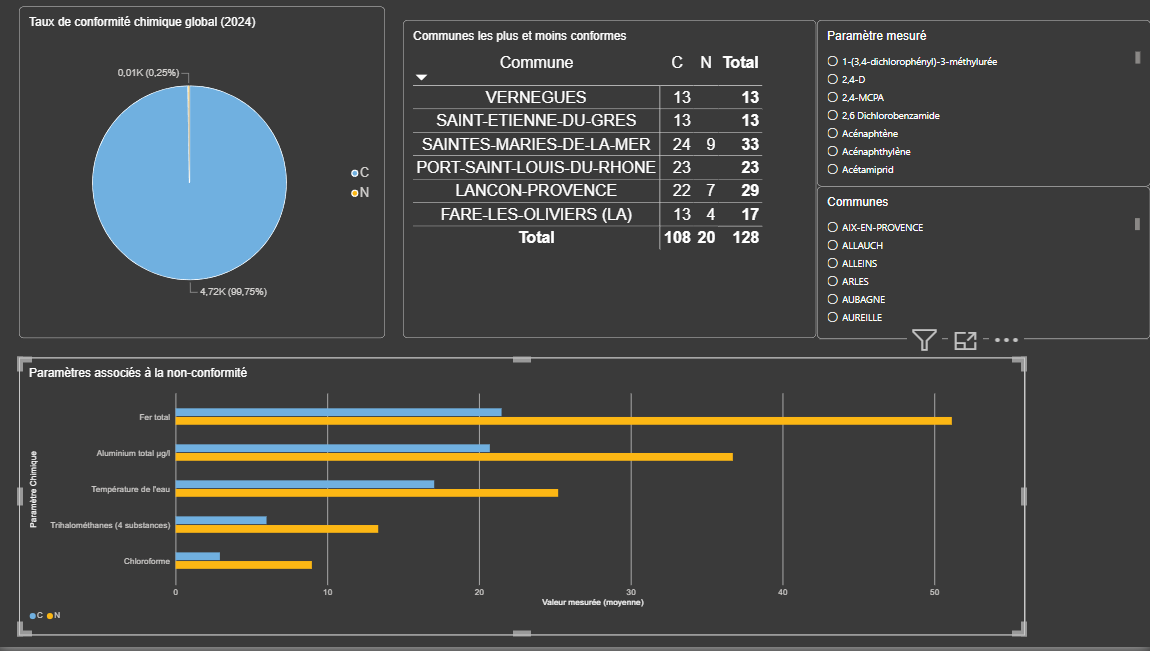

Layout of this report page (visuals, bound fields, positions):
{"tool":"powerbi","page":{"name":"Page 1","canvas":[1920,1080],"ordinal":0},"visuals":[{"type":"pieChart","title":"Taux de conformité chimique global (2024)","fields":{"Category":["resultats_eau_013_2024.plvconformitechimique"],"Y":["Count(resultats_eau_013_2024.referenceprel)"]},"box":[35,12.5,610,552.5],"z":0},{"type":"clusteredBarChart","title":"Paramètres associés à la non-conformité","fields":{"Category":["resultats_eau_013_2024.libminparametre"],"Series":["resultats_eau_013_2024.plvconformitereferencechim"],"Y":["Avg(resultats_eau_013_2024.valtraduite)"]},"box":[35,597.5,1677.5,462.5],"z":1000},{"type":"pivotTable","title":"Communes les plus et moins conformes","fields":{"Columns":["resultats_eau_013_2024.plvconformitereferencechim"],"Rows":["resultats_eau_013_2024.nomcommuneprinc"],"Values":["Count(resultats_eau_013_2024.referenceprel)"]},"box":[675,35,688.8,530],"z":2000},{"type":"listSlicer","title":"Communes","fields":{"Values":["resultats_eau_013_2024.nomcommuneprinc"]},"box":[1363.8,312.5,555,253.8],"z":2001},{"type":"listSlicer","title":"Paramètre mesuré","fields":{"Values":["resultats_eau_013_2024.libminparametre"]},"box":[1363.8,35,556.2,277.5],"z":2002}]}

Visuals, with their boxes in screenshot pixels (x1, y1, x2, y2), scaled from the page's 1920x1080 canvas onto the 1150x651 screenshot:
"Taux de conformité chimique global (2024)" pieChart: 21:8:386:341
"Paramètres associés à la non-conformité" clusteredBarChart: 21:360:1026:639
"Communes les plus et moins conformes" pivotTable: 404:21:817:341
"Communes" listSlicer: 817:188:1149:341
"Paramètre mesuré" listSlicer: 817:21:1149:188
